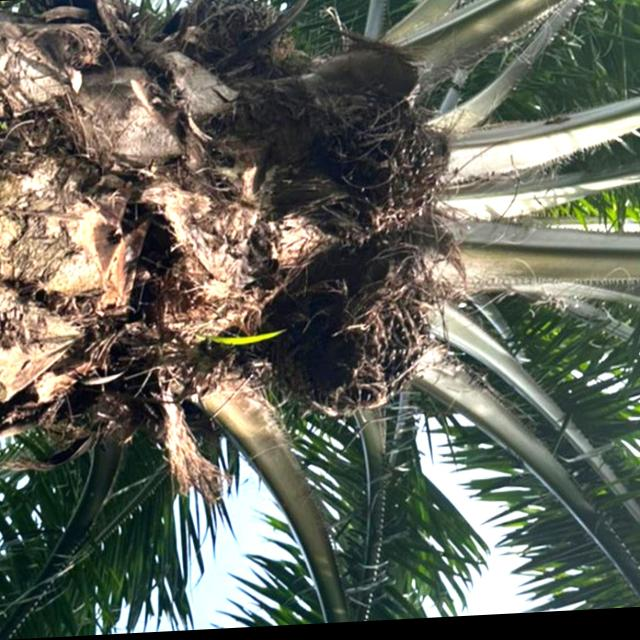unripe: (266, 244, 442, 425), (294, 66, 456, 241)
